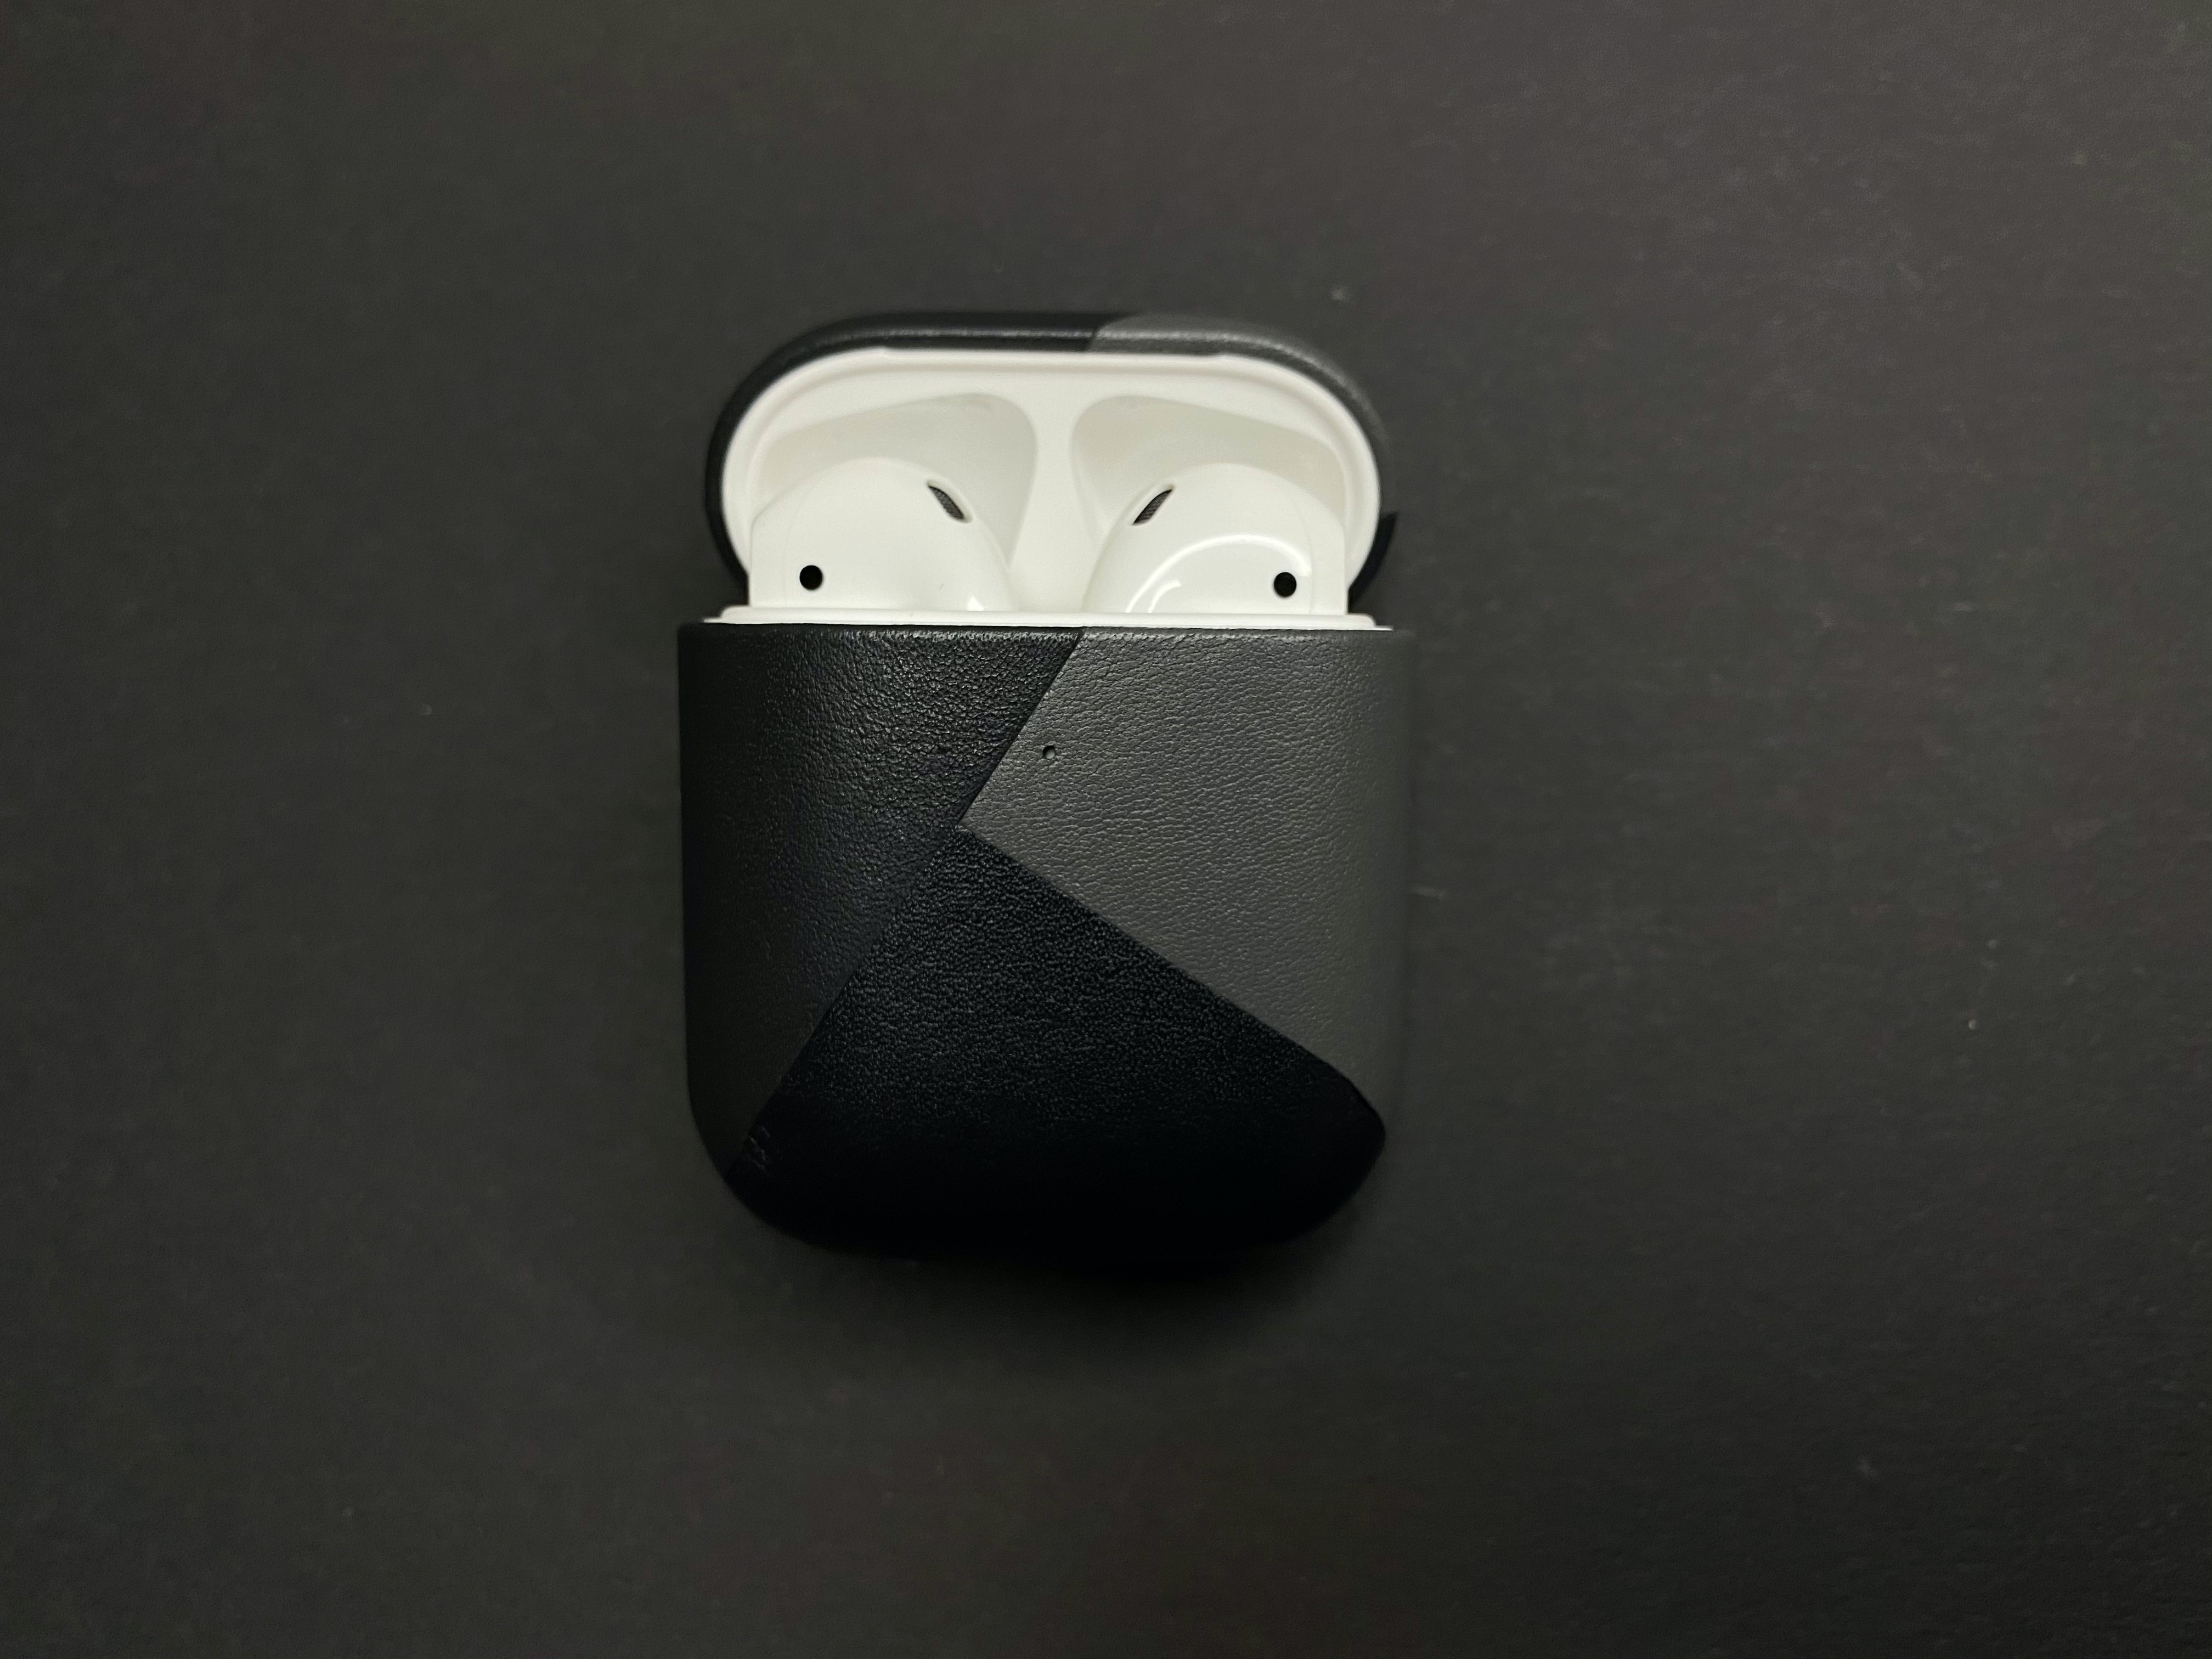airpods: (688, 314, 1418, 1284)
